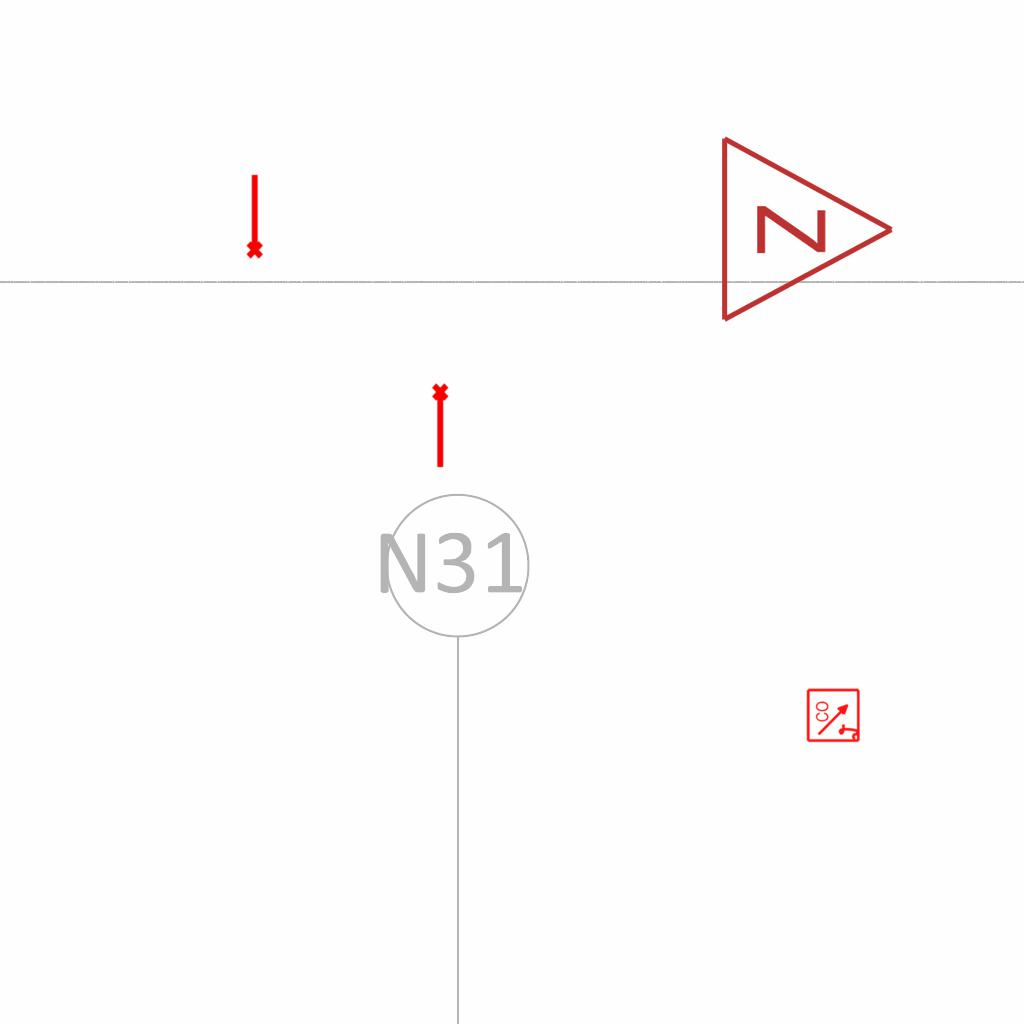ASR_Ansaugoeffnung: (430, 382, 453, 470), (242, 172, 265, 260)
ROA_Rauchmelder_optisch_mit_Signalgeber_(Sockelsirene): (806, 687, 862, 743)
Zimmersignalleuchte: (707, 129, 907, 325)
